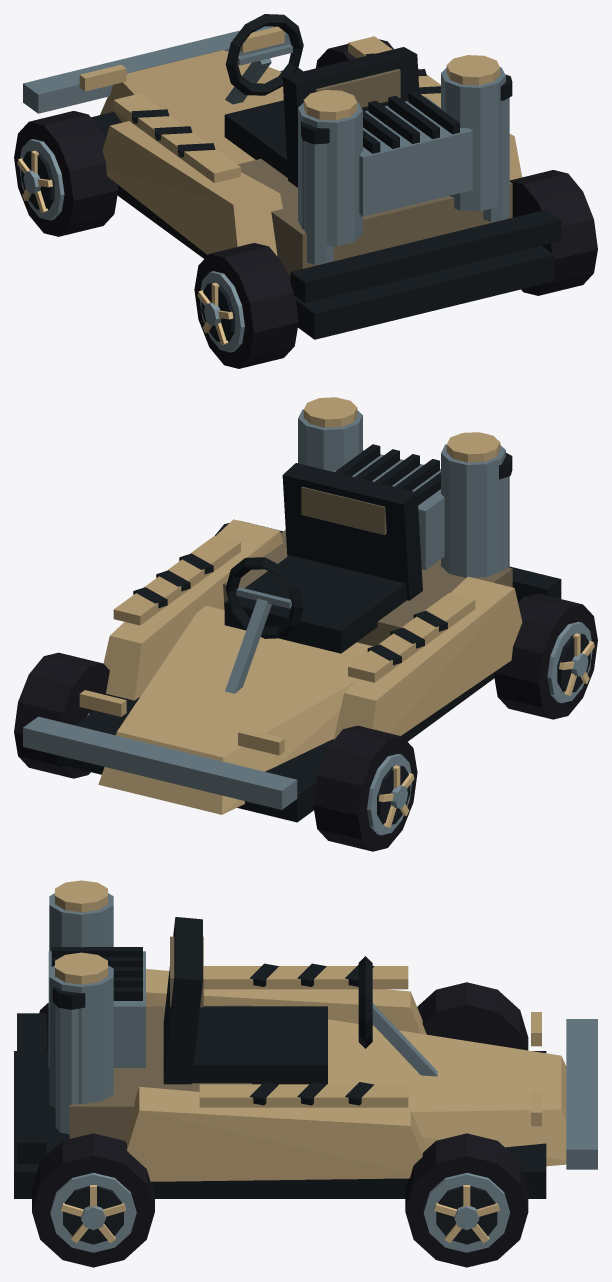
File: kart.glb
The picture shows the model from 3 angles, top to bottom: view 1: azimuth 30°, elevation 25°; view 2: azimuth 150°, elevation 25°; view 3: azimuth 270°, elevation 25°; orthographic projection. The views are drawn at different scales.
Visible parts, largest first — view 1: chassis, wheel-rear-left, wheel-front-left, wheel-rear-right, wheel-front-right; view 2: chassis, wheel-front-left, wheel-rear-left, wheel-front-right; view 3: chassis, wheel-front-right, wheel-rear-right, wheel-front-left.
Boxes of the visible parts, x1,y1,x2,y2 form: chassis: [23, 14, 561, 339]; wheel-rear-left: [194, 243, 298, 368]; wheel-front-left: [14, 111, 118, 236]; wheel-rear-right: [509, 170, 597, 295]; wheel-front-right: [316, 39, 393, 68]; chassis: [23, 397, 561, 822]; wheel-front-left: [313, 725, 417, 851]; wheel-rear-left: [493, 593, 597, 719]; wheel-front-right: [14, 652, 114, 778]; chassis: [14, 880, 597, 1198]; wheel-front-right: [405, 1133, 528, 1267]; wheel-rear-right: [32, 1133, 154, 1267]; wheel-front-left: [417, 982, 528, 1050].
Bounding box in the file's own units: 2.24 × 1.4 × 2.94.
